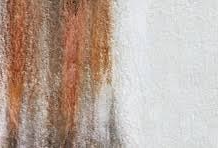Corrosion: (1, 1, 126, 148)
